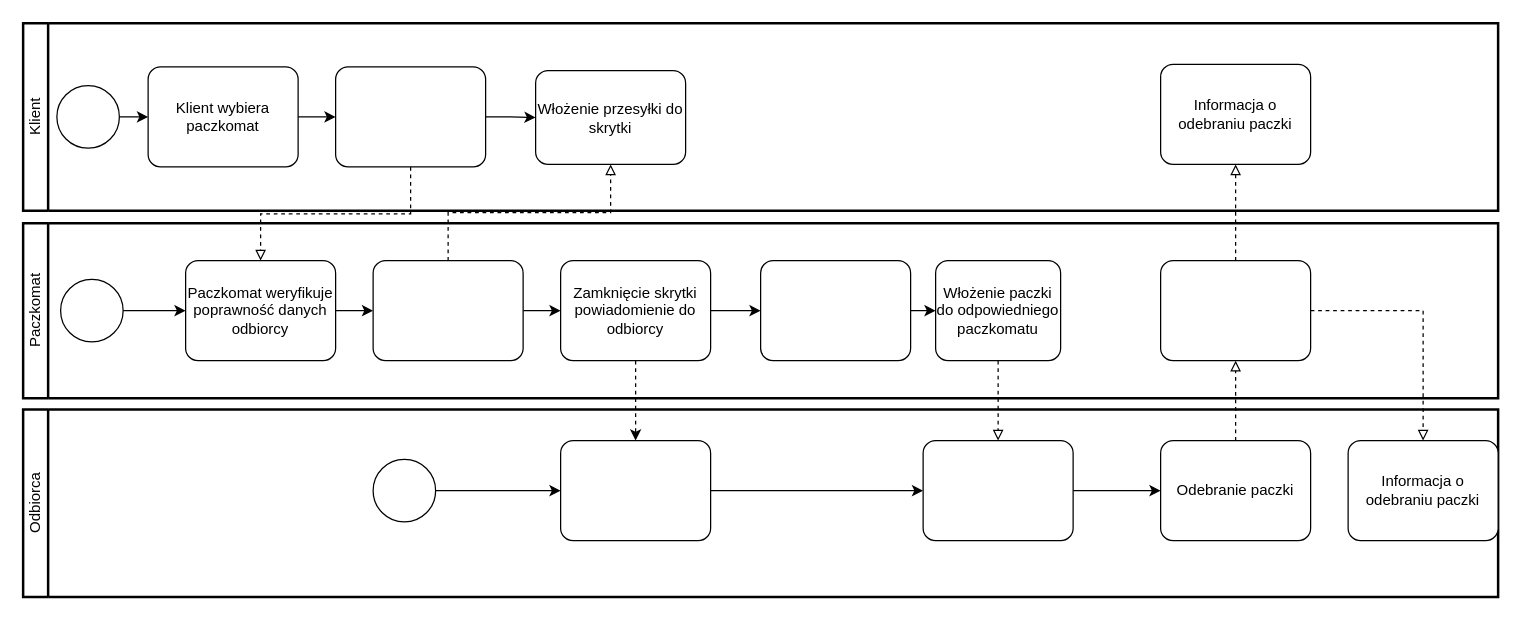
This 1520x619 diagram has some shape labels left out. Here are the shapes that lost their labels. From the top down, the centre of each, then its label:
At point (410, 116): "Wprowadzenie danych odbiorcy".
At point (447, 310): "Wyświetla potwierdzenie i prośba o włożenie przesyłki do skrytki".
At point (835, 310): "Oczekiwanie na odebranie skrzynki".
At point (1235, 310): "Wysłanie potwierdzenia o odebraniu paczki".
At point (635, 490): "Otrzymanie powiadomienia o wysyłce paczki".
At point (997, 490): "Otrzymanie kodu dostępu do skrytki".
